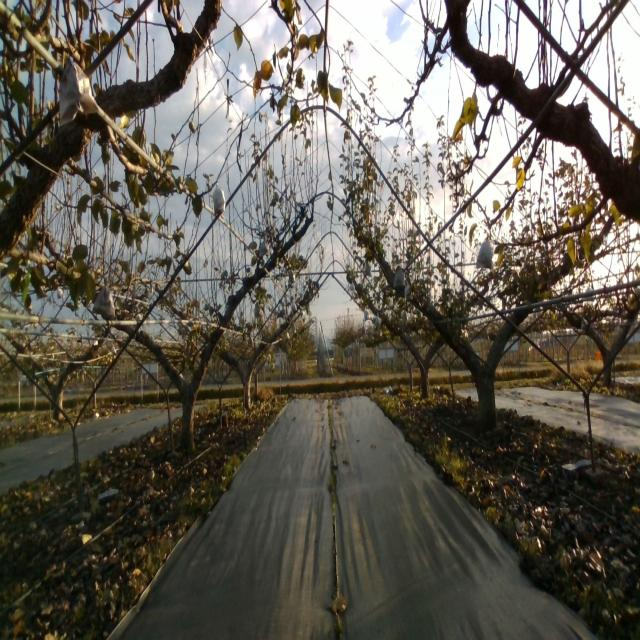pearbags: (59, 54, 100, 127), (476, 237, 494, 269), (213, 180, 226, 215), (258, 233, 270, 259), (392, 270, 405, 290)
